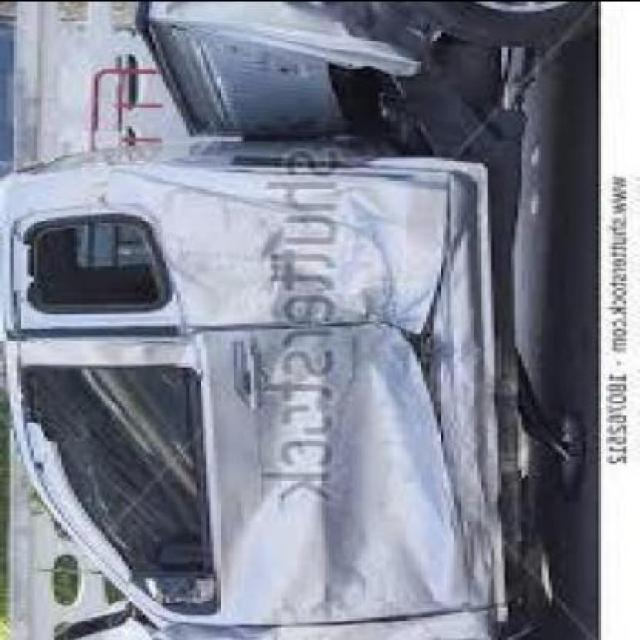damage: (8, 156, 494, 639)
